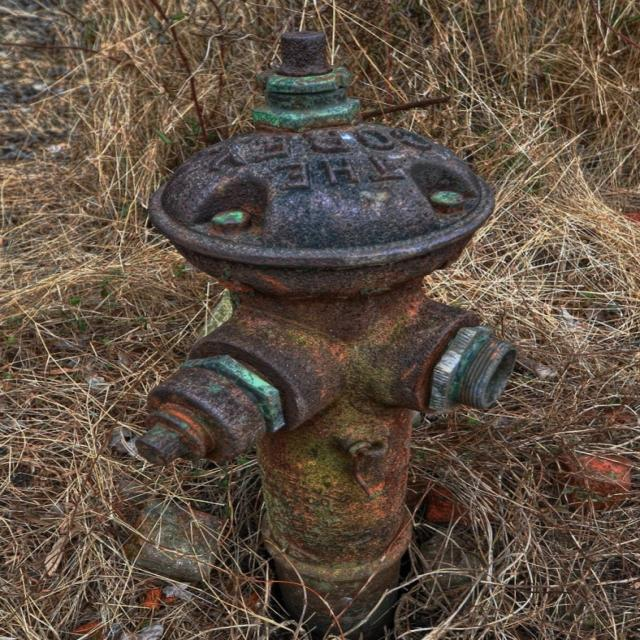fire_hydrant: (135, 28, 516, 640)
